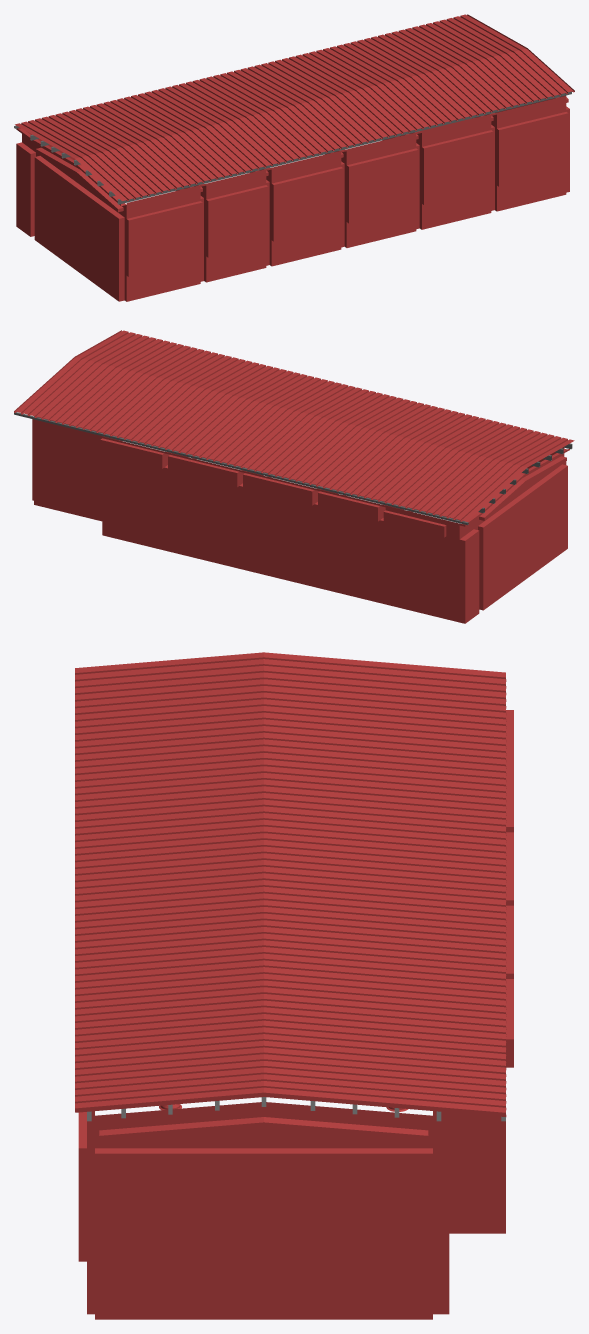
3 views of the same model, one above another, from view 1: azimuth 30°, elevation 25°; view 2: azimuth 150°, elevation 25°; view 3: azimuth 270°, elevation 25° (orthographic). The views are drawn at different scales.
Parts seen in each view (by area): view 1: roff, con, win, iron; view 2: roff, con, win, iron; view 3: roff, con.
Part boxes in pixels (left/top/right/bottom): roff: left=15, top=14, right=574, bottom=201; con: left=16, top=95, right=569, bottom=301; win: left=128, top=113, right=568, bottom=276; iron: left=14, top=91, right=571, bottom=204; roff: left=14, top=330, right=574, bottom=521; con: left=32, top=417, right=569, bottom=623; win: left=100, top=440, right=544, bottom=537; iron: left=14, top=412, right=572, bottom=525; roff: left=75, top=652, right=506, bottom=1116; con: left=78, top=710, right=513, bottom=1319.
Bounding box in the file's own units: 24.99 × 5.94 × 10.49.
